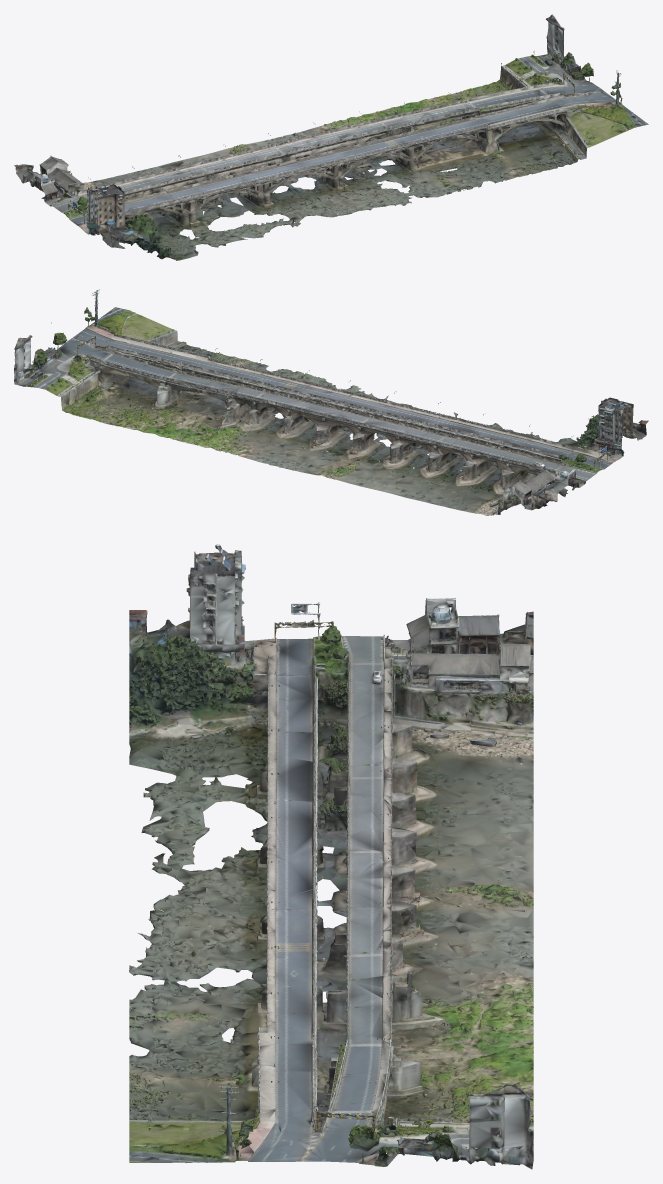
File: riverine.glb
The picture shows the model from 3 angles, top to bottom: view 1: azimuth 30°, elevation 25°; view 2: azimuth 150°, elevation 25°; view 3: azimuth 270°, elevation 25°; orthographic projection. The views are drawn at different scales.
Parts seen in each view (by area): view 1: Object_2; view 2: Object_2; view 3: Object_2.
Part boxes in pixels (x1,y1,x2,y2): Object_2: (14,14,648,260); Object_2: (14,289,648,515); Object_2: (129,544,533,1169).
Size of the model in its own units: 714 by 90.47 by 234.
1 material, 1 textured.
